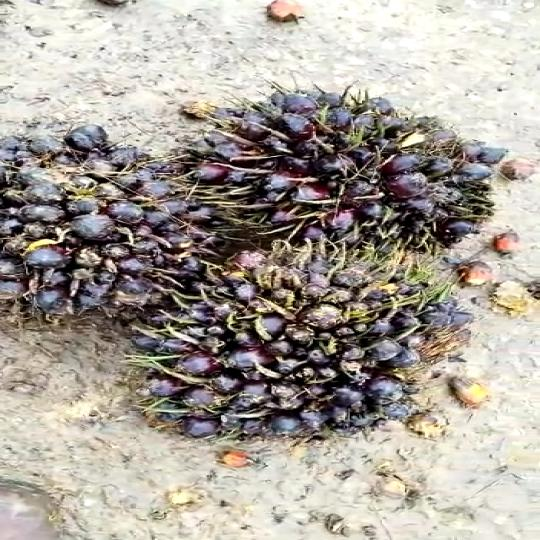mentah: (129, 248, 437, 454), (185, 80, 502, 235), (0, 126, 202, 334)
